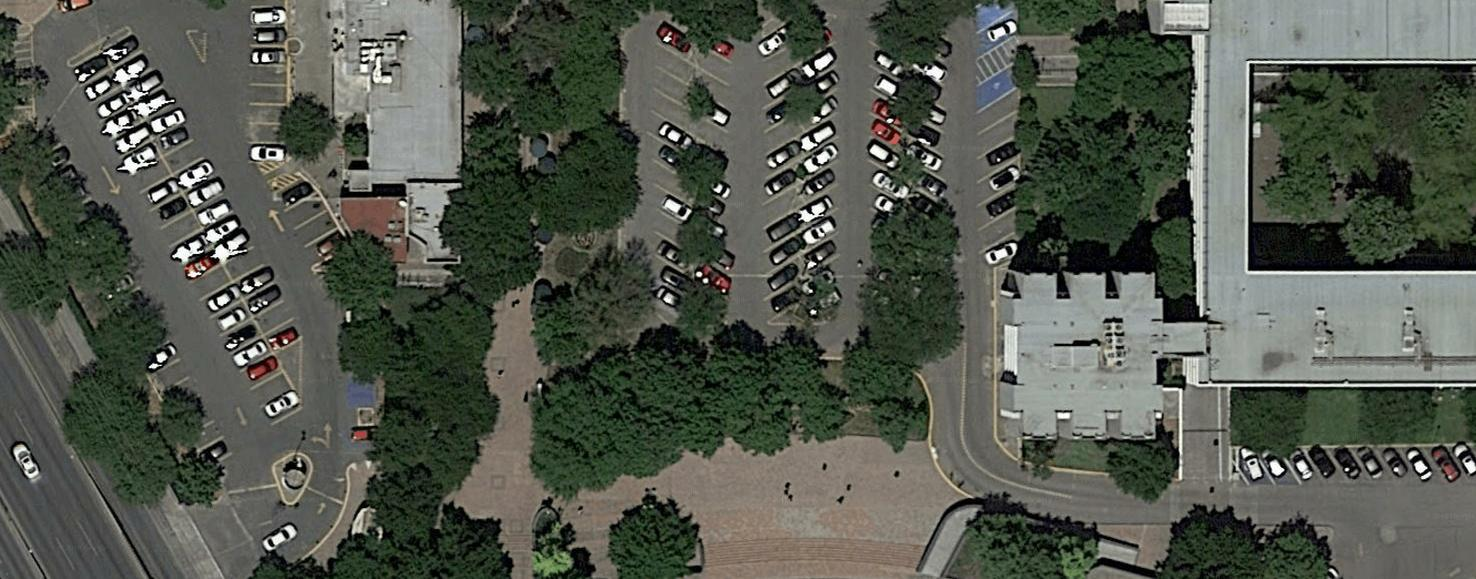parkingspot: (67, 48, 305, 428), (102, 28, 307, 356), (644, 16, 704, 323), (792, 14, 846, 320), (758, 21, 810, 327), (973, 62, 1025, 286), (1236, 443, 1476, 488), (906, 34, 954, 221), (866, 34, 912, 222), (247, 0, 291, 164), (270, 177, 349, 268), (143, 337, 204, 408), (972, 0, 1020, 64), (193, 410, 238, 465)
